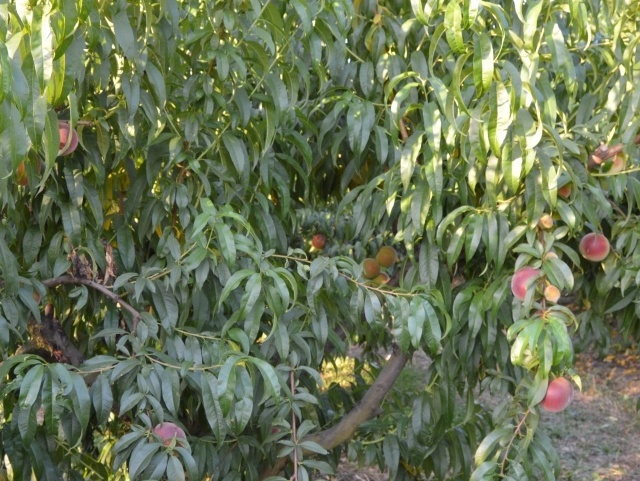peach: (506, 263, 549, 306), (538, 369, 575, 414), (576, 228, 613, 265), (152, 417, 191, 452), (54, 119, 83, 160), (374, 244, 401, 272), (532, 209, 559, 234), (539, 280, 563, 306), (360, 255, 386, 277), (310, 228, 330, 253), (371, 269, 394, 290)
